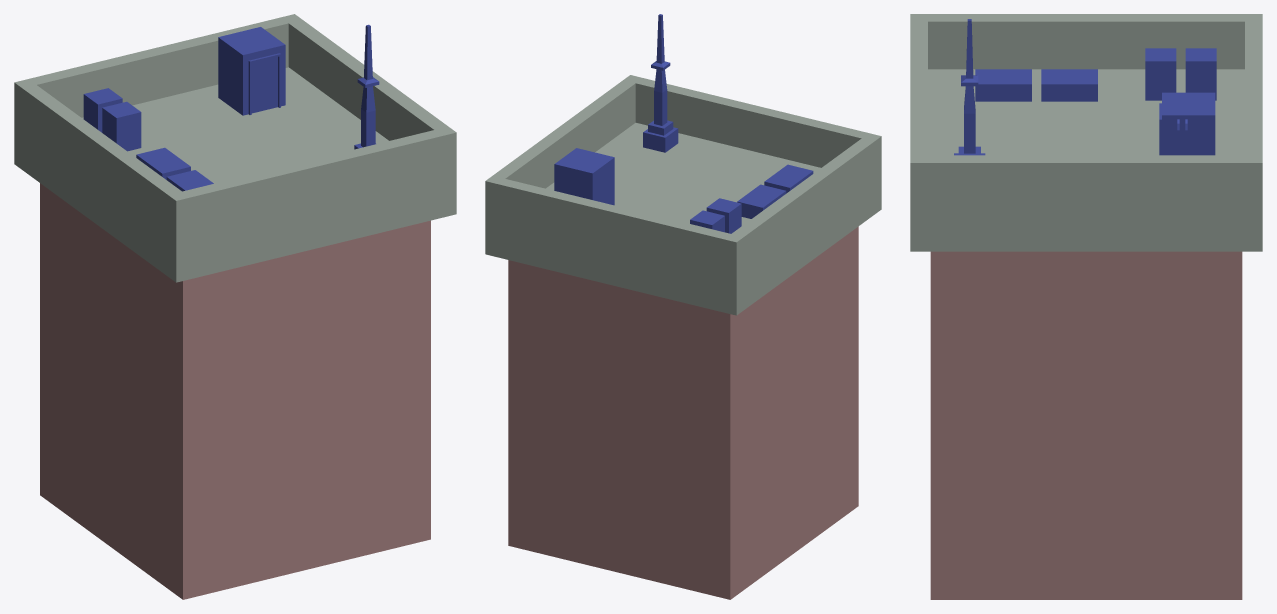
File: Building_B3.fbx
3 renders of one model, left to right at view 1: azimuth 30°, elevation 25°; view 2: azimuth 150°, elevation 25°; view 3: azimuth 270°, elevation 25°, orthographic. The views are drawn at different scales.
Parts seen in each view (by area): view 1: BuildingA12; view 2: BuildingA12; view 3: BuildingA12.
Boxes of the visible parts, x1=… form: BuildingA12: x1=14, y1=14, x2=456, y2=599; BuildingA12: x1=485, y1=14, x2=881, y2=599; BuildingA12: x1=910, y1=14, x2=1262, y2=599.
Bounding box in the file's own units: 6.81 × 11.87 × 6.81.
